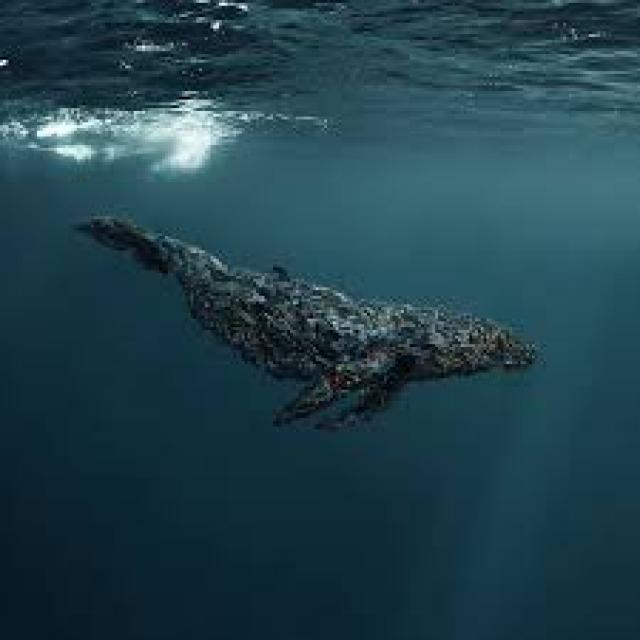blue_whale: (82, 185, 560, 472)
